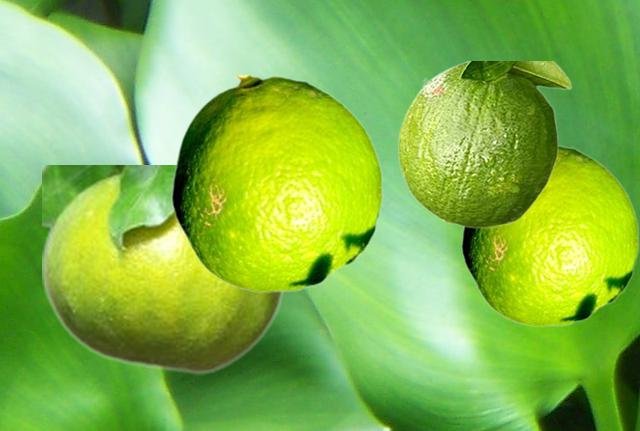dalandan: (42, 165, 284, 374), (171, 75, 382, 292), (461, 143, 638, 326), (397, 61, 571, 227)
